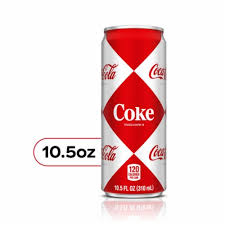can: (100, 25, 168, 198)
